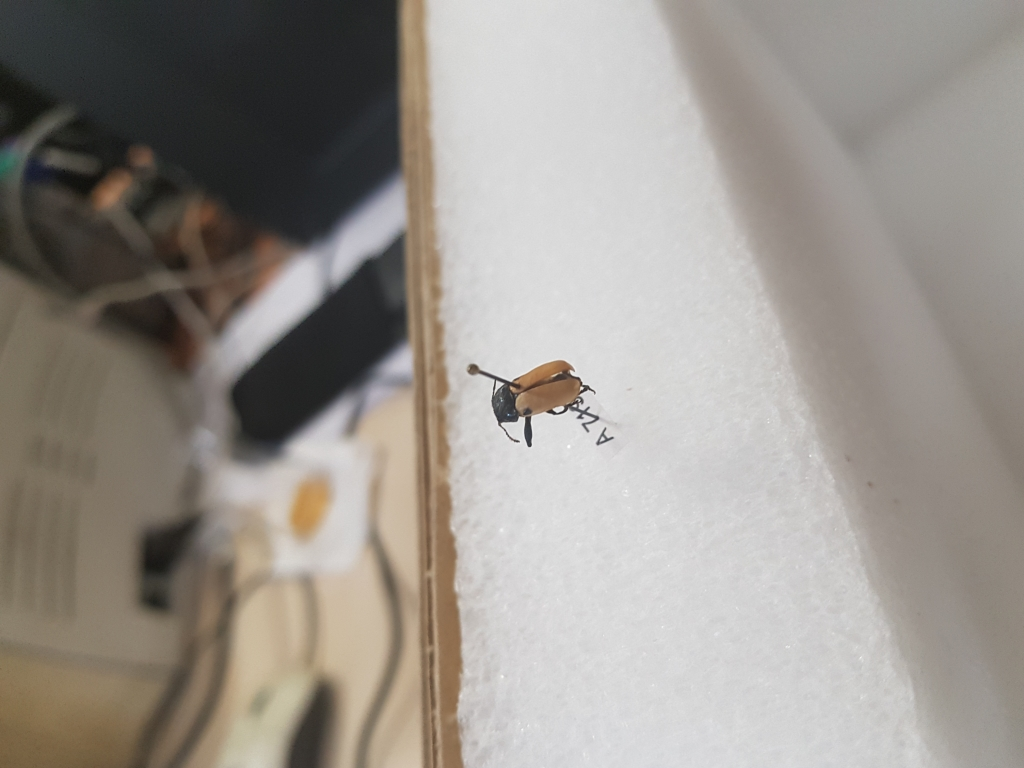Labidostomis_propinqua: (478, 356, 604, 452)
